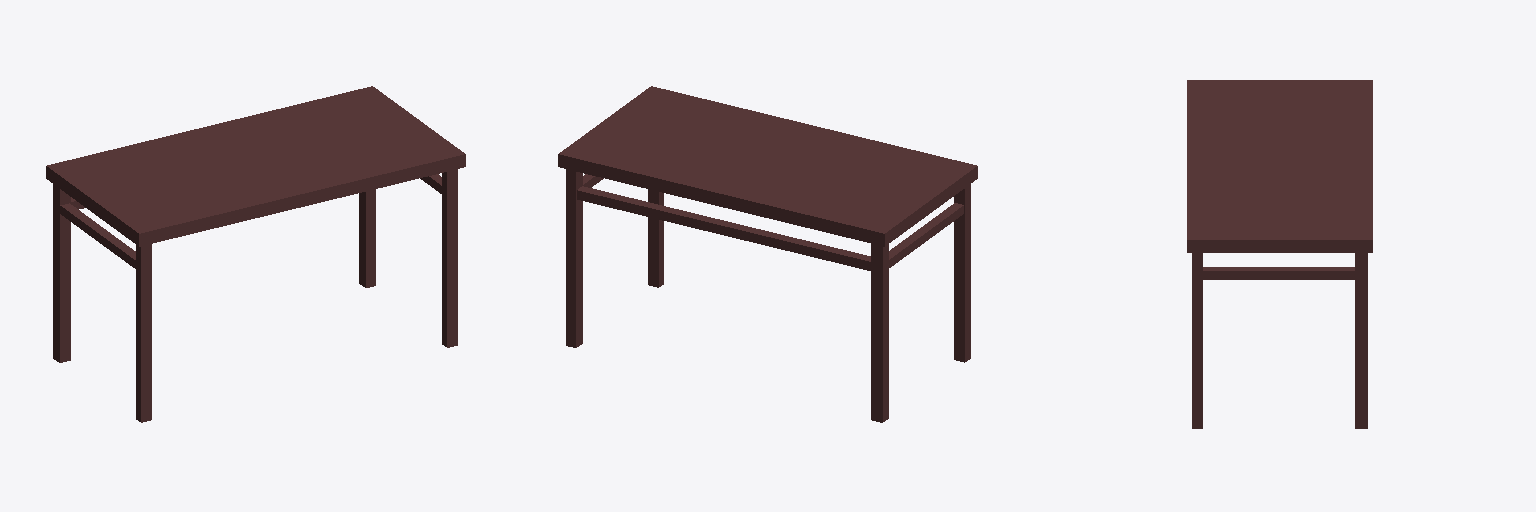
File: table3.obj
3 views of the same model, side by side, from view 1: azimuth 30°, elevation 25°; view 2: azimuth 150°, elevation 25°; view 3: azimuth 270°, elevation 25° (orthographic).
Parts seen in each view (by area): view 1: table3; view 2: table3; view 3: table3.
Part boxes in pixels (x1,y1,x2,y2): table3: (46,86,465,422); table3: (558,86,977,422); table3: (1187,80,1372,428).
Bounding box in the file's own units: 1.28 × 0.7203 × 0.6325.